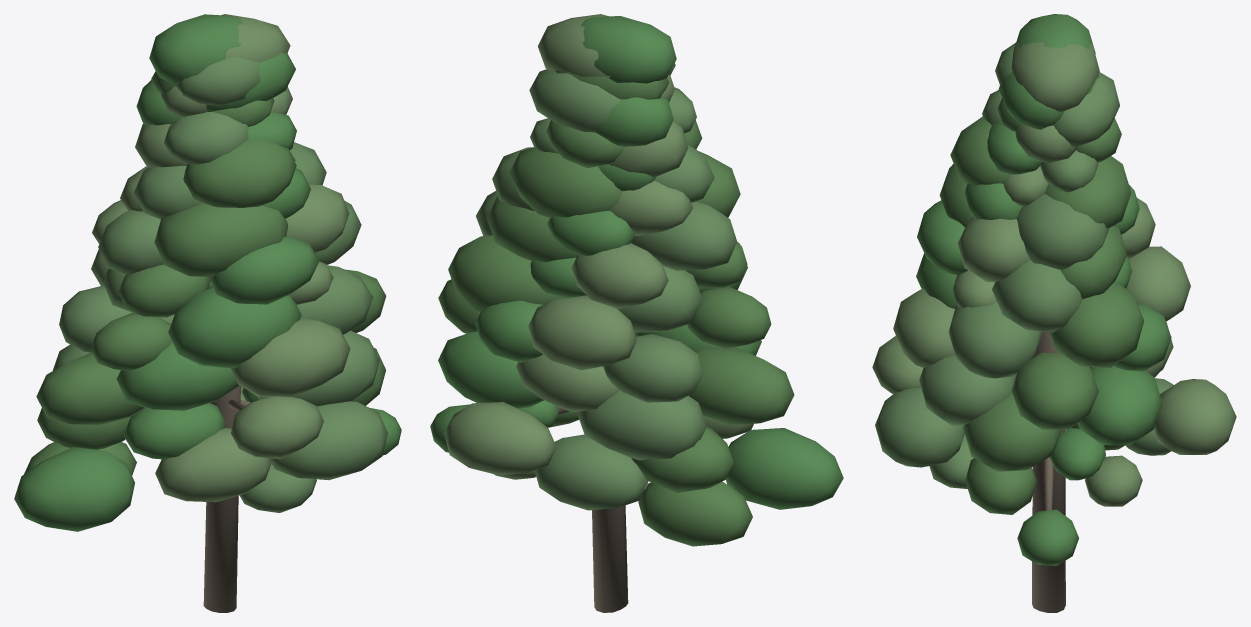
File: district_pine.glb
3 views of the same model, side by side, from view 1: azimuth 30°, elevation 25°; view 2: azimuth 150°, elevation 25°; view 3: azimuth 270°, elevation 25° (orthographic). The views are drawn at different scales.
Visible parts, largest first — view 1: leaf0, leaf2, leaf1, leaf3, timber; view 2: leaf1, leaf2, leaf0, leaf3, timber; view 3: leaf2, leaf3, leaf1, leaf0, timber.
Boxes of the visible parts, x1,y1,x2,y2 form: leaf0: [14, 14, 401, 531]; leaf2: [52, 57, 387, 512]; leaf1: [24, 71, 386, 475]; leaf3: [91, 14, 350, 502]; timber: [203, 385, 250, 612]; leaf1: [438, 70, 794, 546]; leaf2: [476, 63, 737, 510]; leaf0: [430, 16, 843, 509]; leaf3: [444, 14, 753, 479]; timber: [557, 406, 628, 612]; leaf2: [875, 42, 1173, 488]; leaf3: [872, 42, 1236, 506]; leaf1: [939, 74, 1143, 514]; leaf0: [916, 14, 1171, 565]; timber: [1032, 331, 1065, 612].
Bounding box in the file's own units: 5.98 × 8.64 × 4.94.
